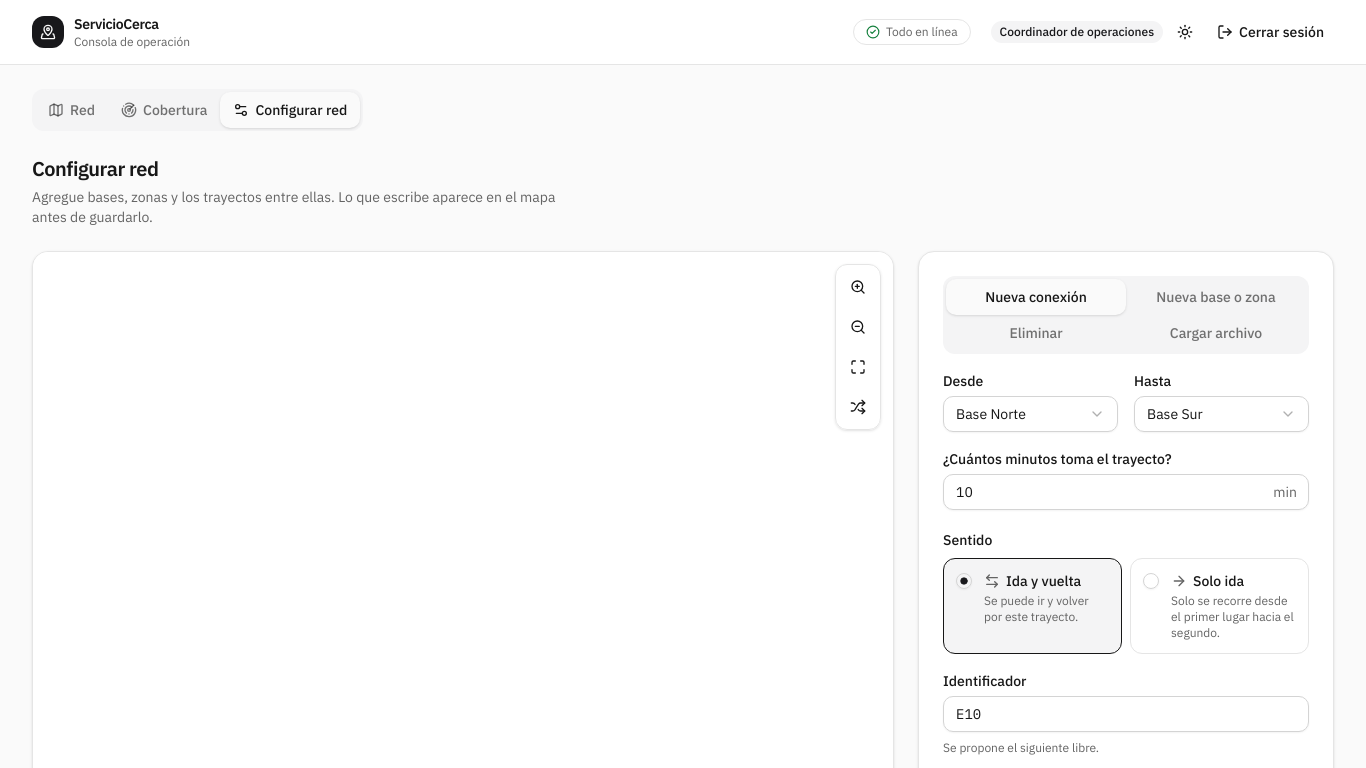
Test: Eliminar › muestra el error del contrato si la red cambió mientras tanto
Expected: the heading "Configurar red" is shown, [32,155,158,182]
Click the tab "Eliminar".
click(1036, 333)  # box [946,315,1126,351]
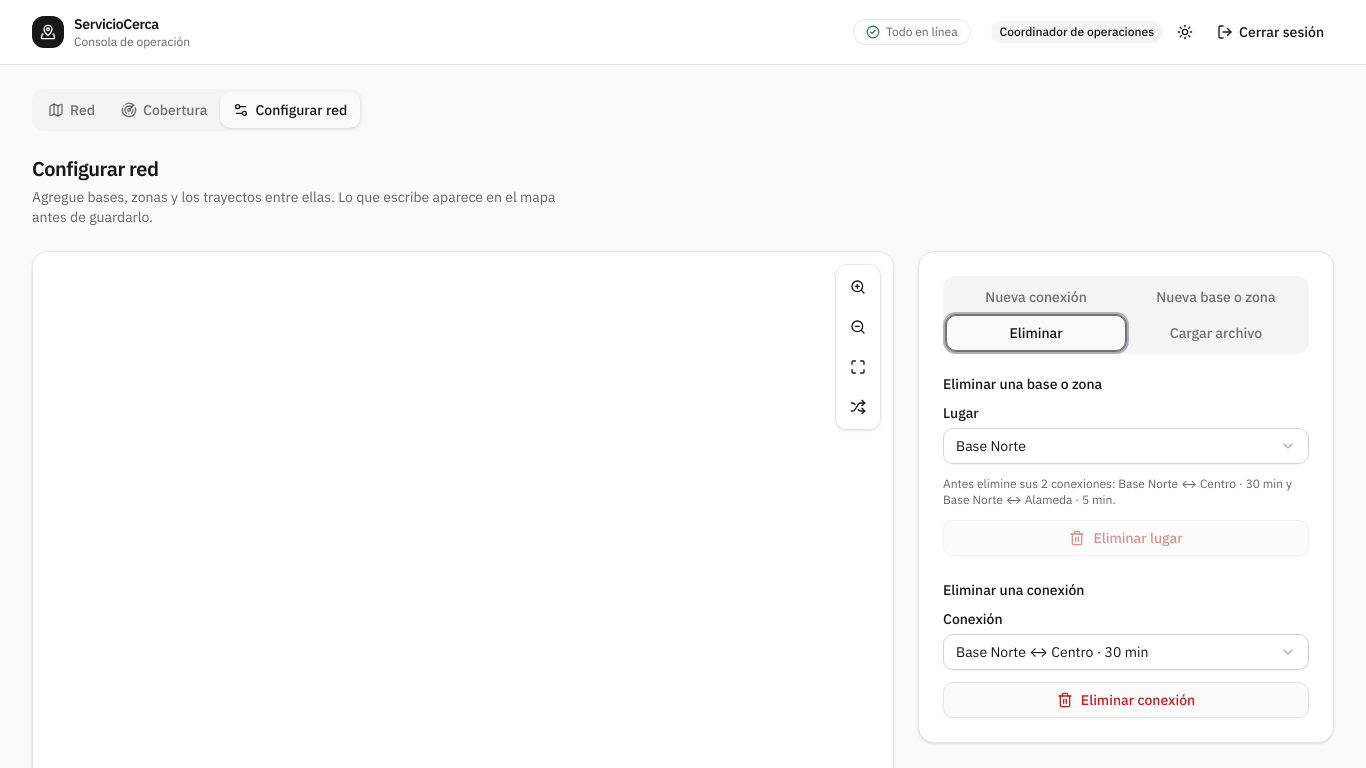
Click the dropdown named "Lugar".
click(991, 446)  # box [943,428,1309,464]
(page scrolled)
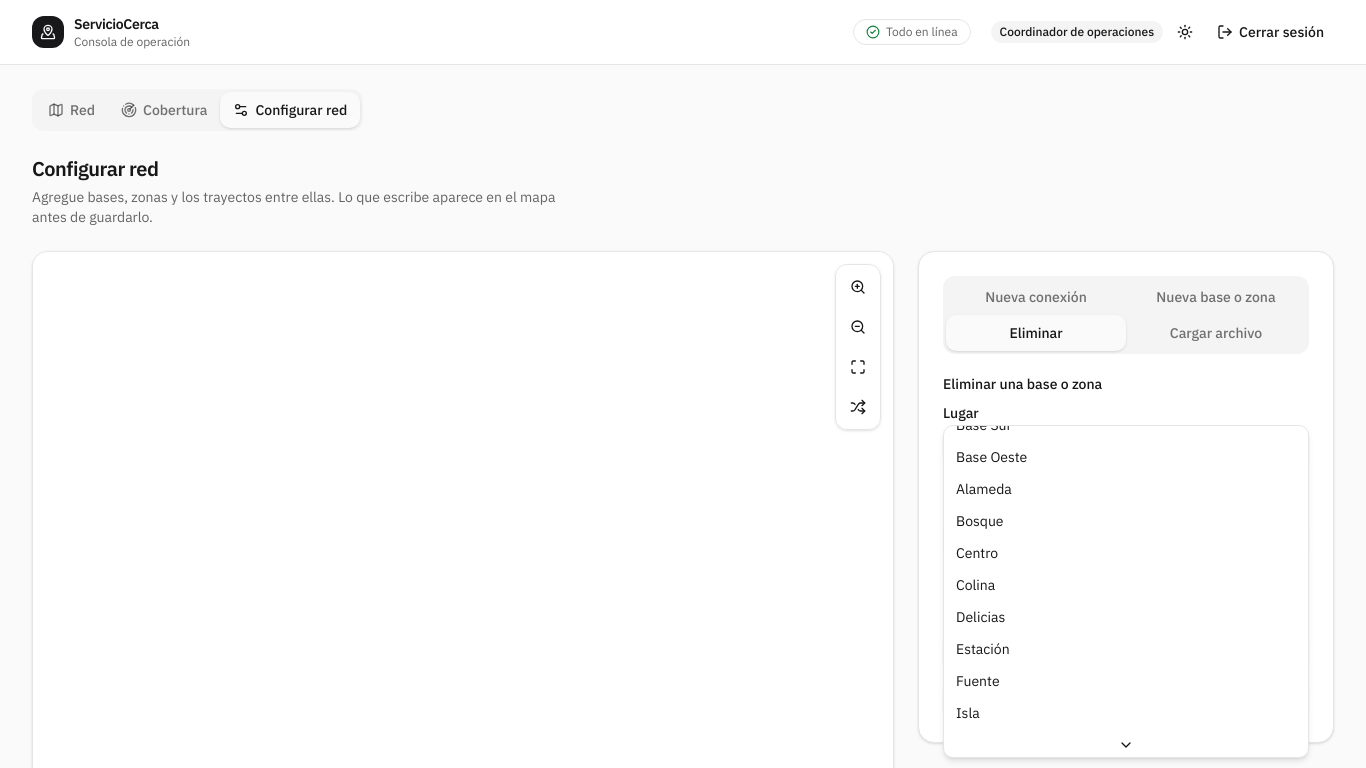
Click the option "Isla".
click(968, 713)  # box [956,704,980,722]
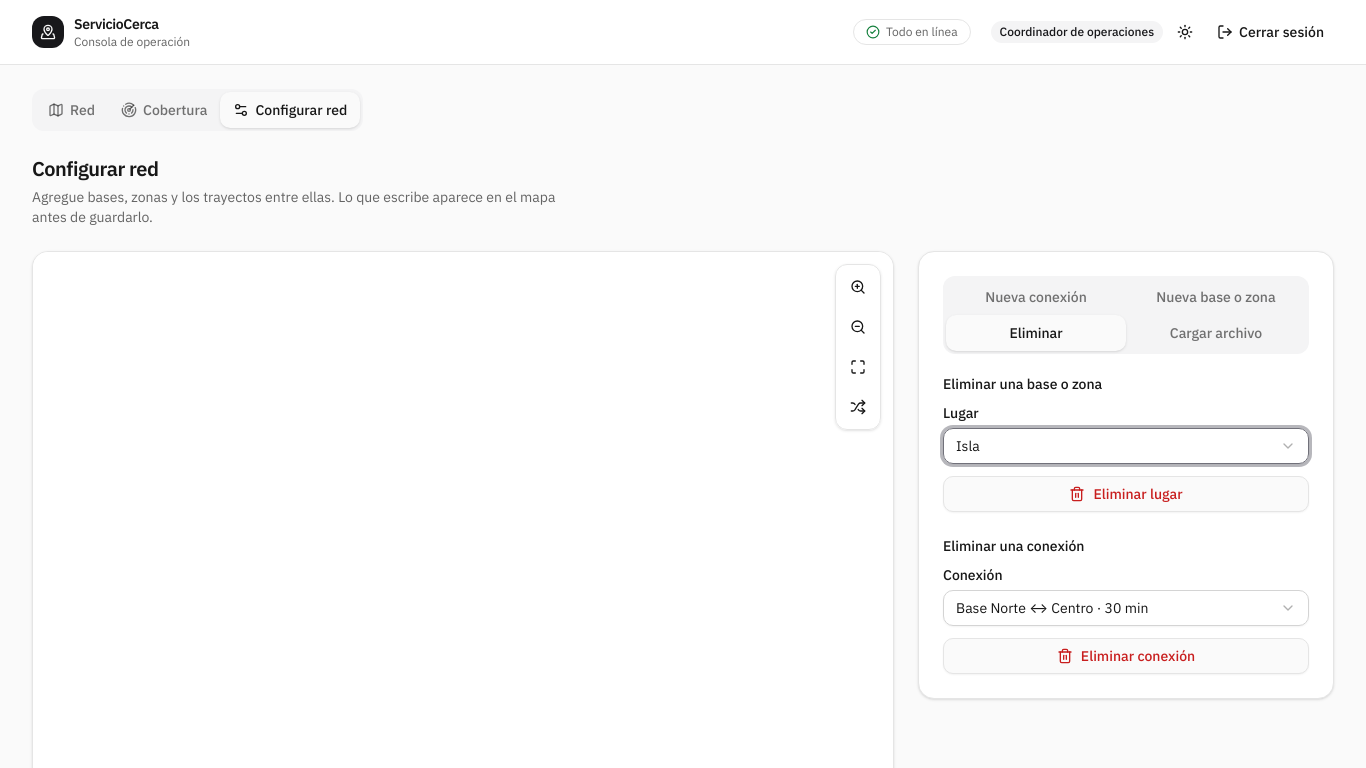
Click the button "Eliminar lugar".
click(1126, 494)  # box [943,476,1309,512]
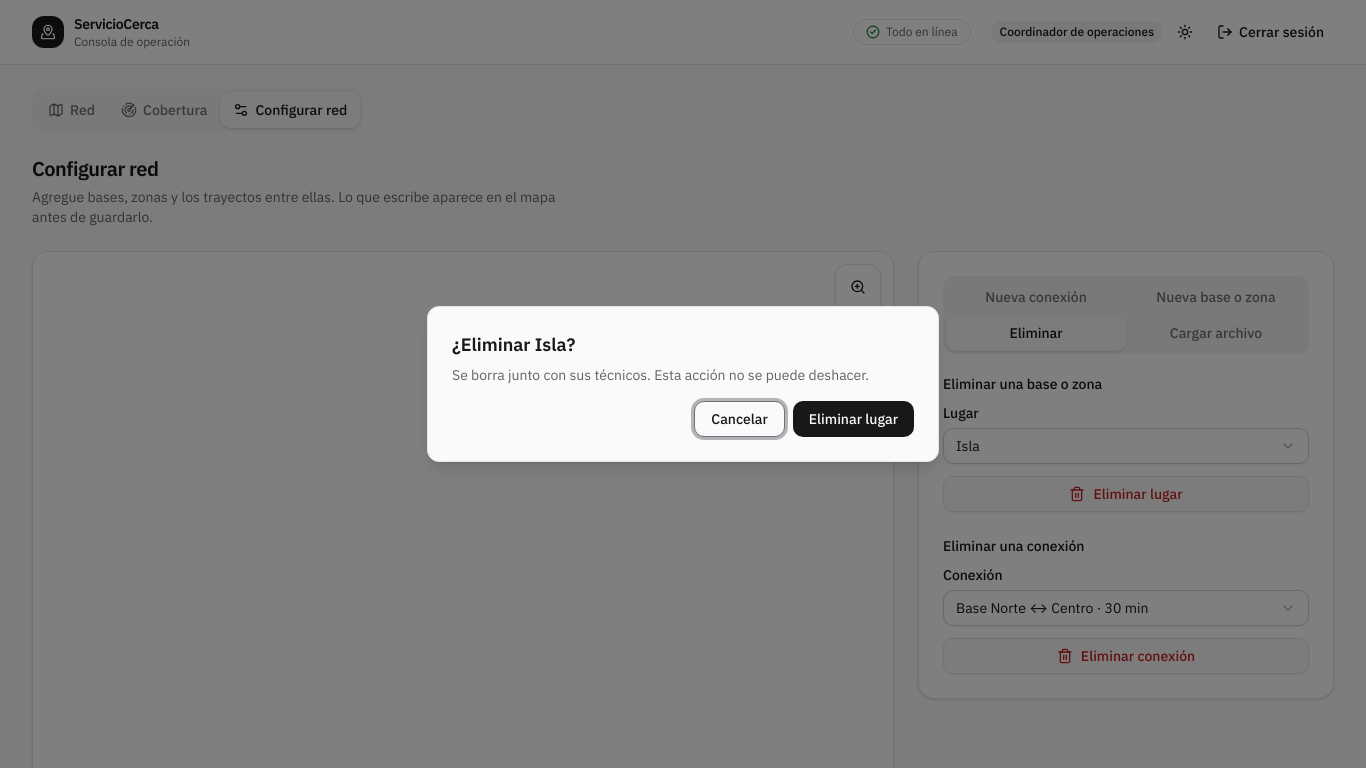
Click the button "Eliminar lugar".
click(853, 419)  # box [793,401,914,437]
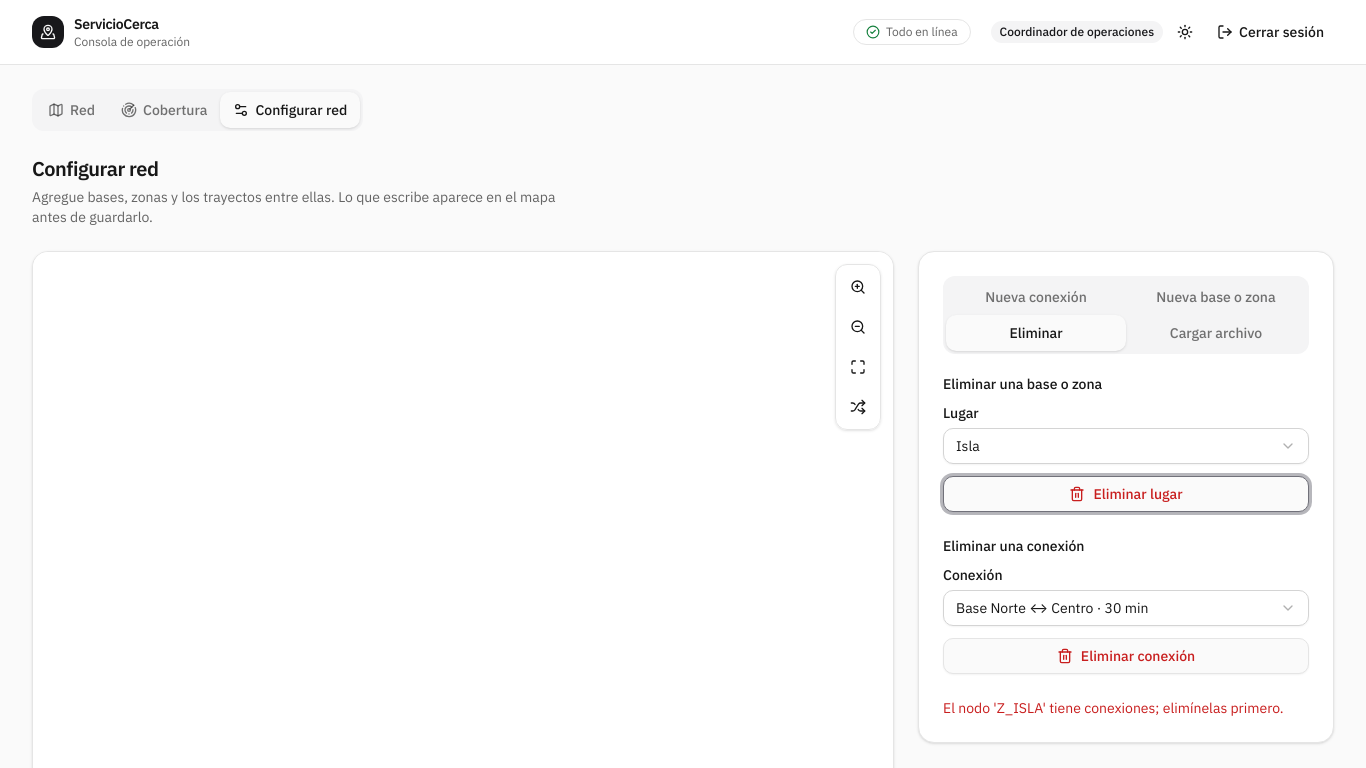
Expected: the message "El nodo 'Z_ISLA' tiene conexiones; elimínelas primero." is shown, [943,698,1309,718]
